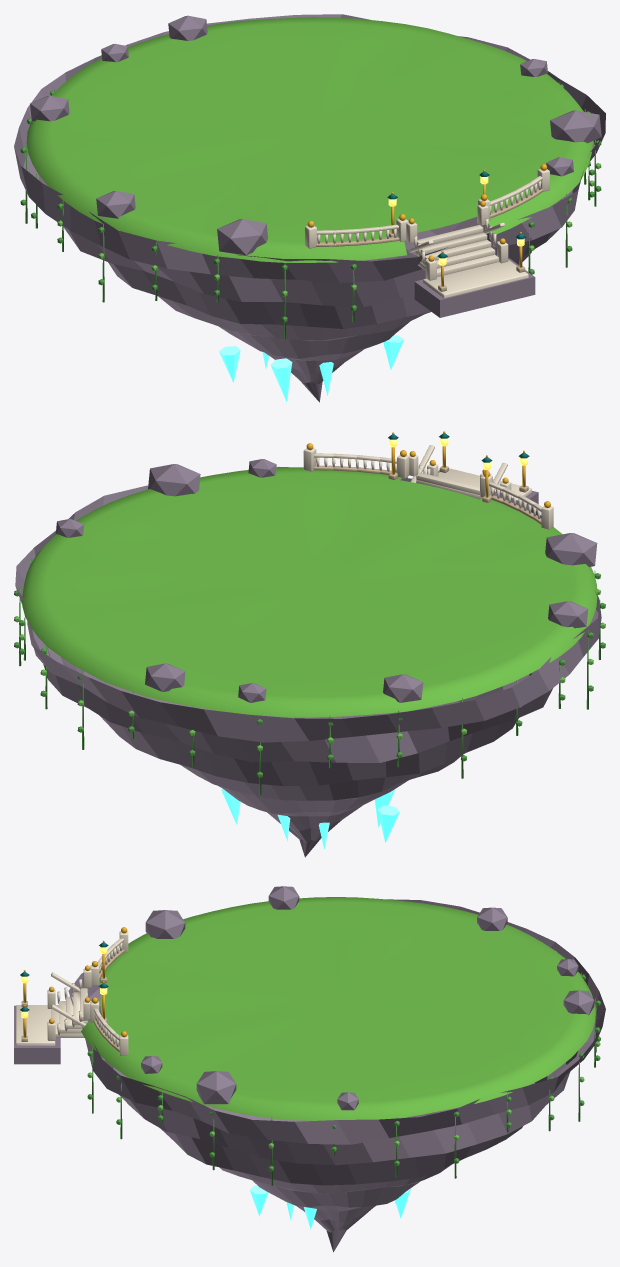
File: insula.glb
3 renders of one model, top to bottom at view 1: azimuth 30°, elevation 25°; view 2: azimuth 150°, elevation 25°; view 3: azimuth 270°, elevation 25°, orthographic. The views are drawn at different scales.
Parts seen in each view (by area): view 1: Insula.001; view 2: Insula.001; view 3: Insula.001.
Part boxes in pixels (x1,y1,x2,y2): Insula.001: [14, 14, 605, 402]; Insula.001: [14, 431, 605, 857]; Insula.001: [14, 886, 605, 1252].
Size of the model in its own units: 14.85 by 8.87 by 16.49.
